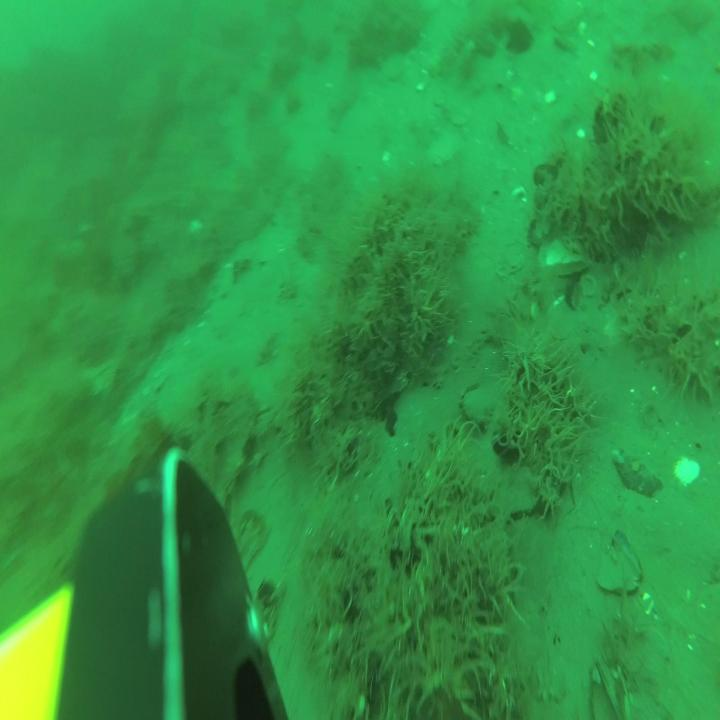scallop: (428, 132, 461, 166), (380, 50, 409, 80), (448, 101, 472, 125)
